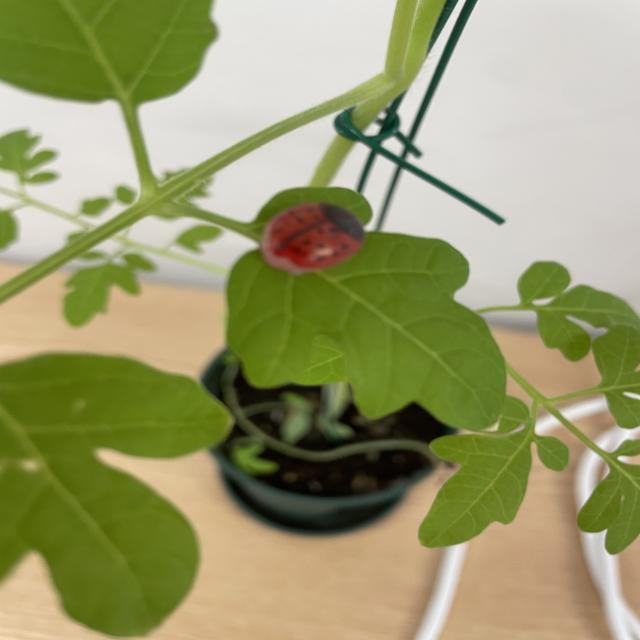bug: (226, 181, 390, 291)
